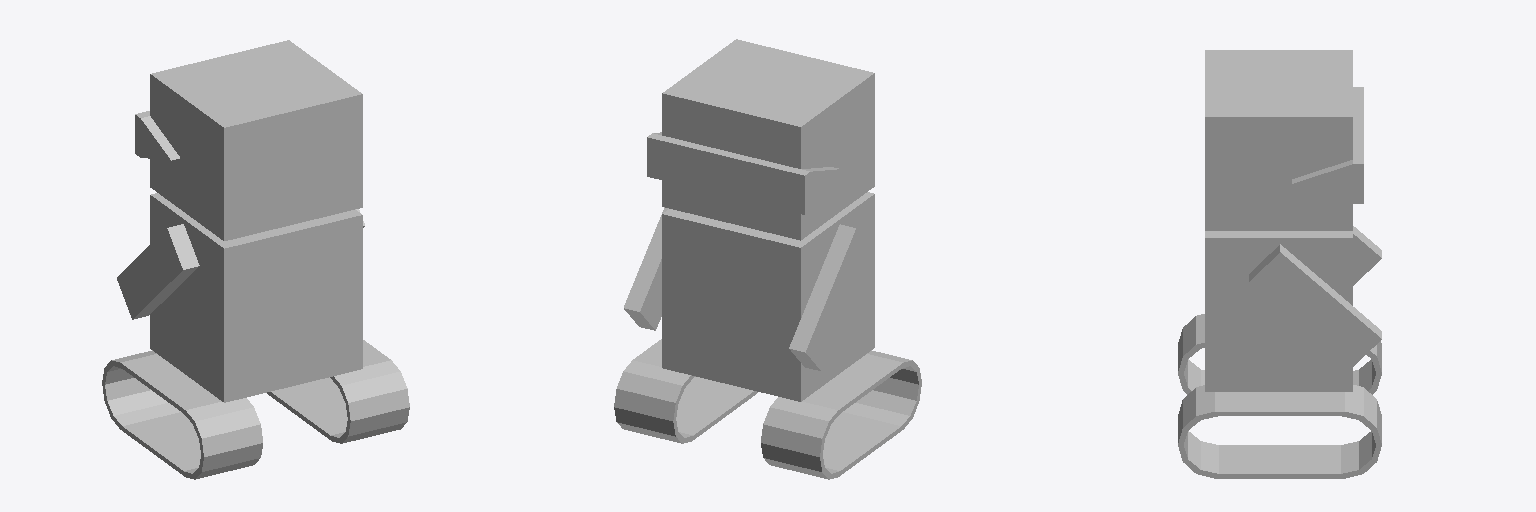
The model's file is robot.obj.
The picture shows the model from 3 angles: view 1: azimuth 30°, elevation 25°; view 2: azimuth 150°, elevation 25°; view 3: azimuth 270°, elevation 25°; orthographic projection.
Visible parts, largest first — view 1: Cube.001; view 2: Cube.001; view 3: Cube.001.
Part boxes in pixels (x1,y1,x2,y2): Cube.001: (102, 40, 409, 479); Cube.001: (614, 39, 921, 479); Cube.001: (1178, 50, 1381, 478).
Bounding box in the file's own units: 12.85 × 20.57 × 11.05.